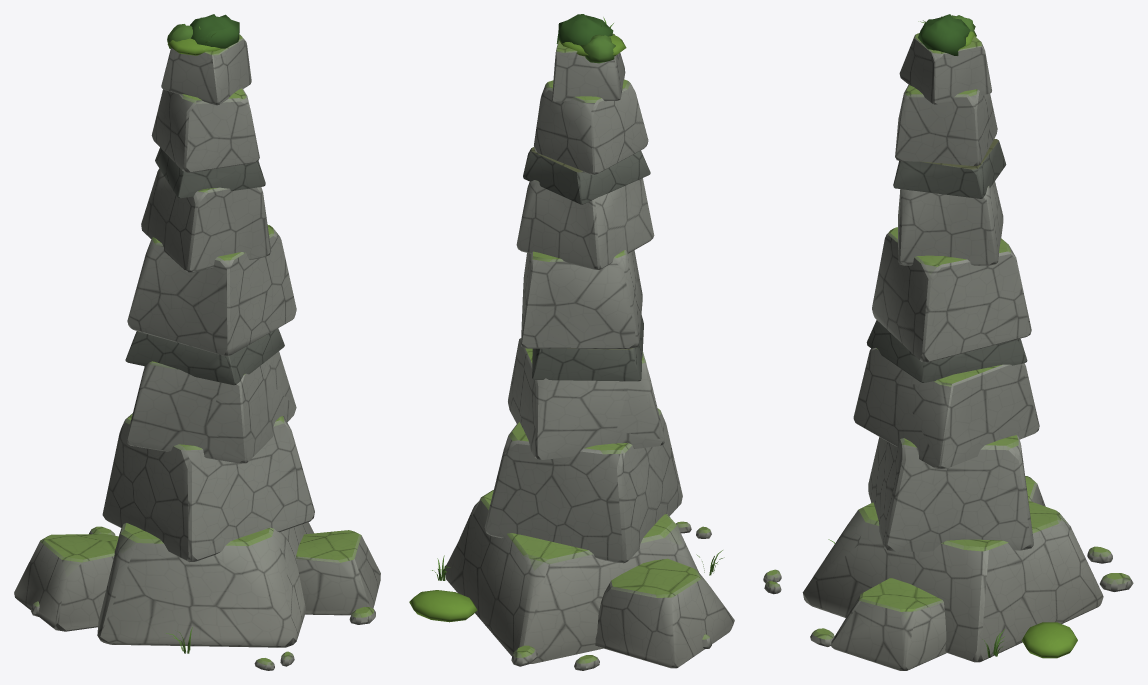
The model's file is rock_spire.glb.
The picture shows the model from 3 angles, left to right: view 1: azimuth 30°, elevation 25°; view 2: azimuth 150°, elevation 25°; view 3: azimuth 270°, elevation 25°; orthographic projection.
Parts seen in each view (by area): view 1: rock_spire; view 2: rock_spire; view 3: rock_spire.
Boxes of the visible parts, <box> form: rock_spire: <box>14,14,380,670</box>; rock_spire: <box>409,14,734,670</box>; rock_spire: <box>763,14,1133,670</box>.
Size of the model in its own units: 4.92 by 9.29 by 5.24.
6 materials, 6 textured.
